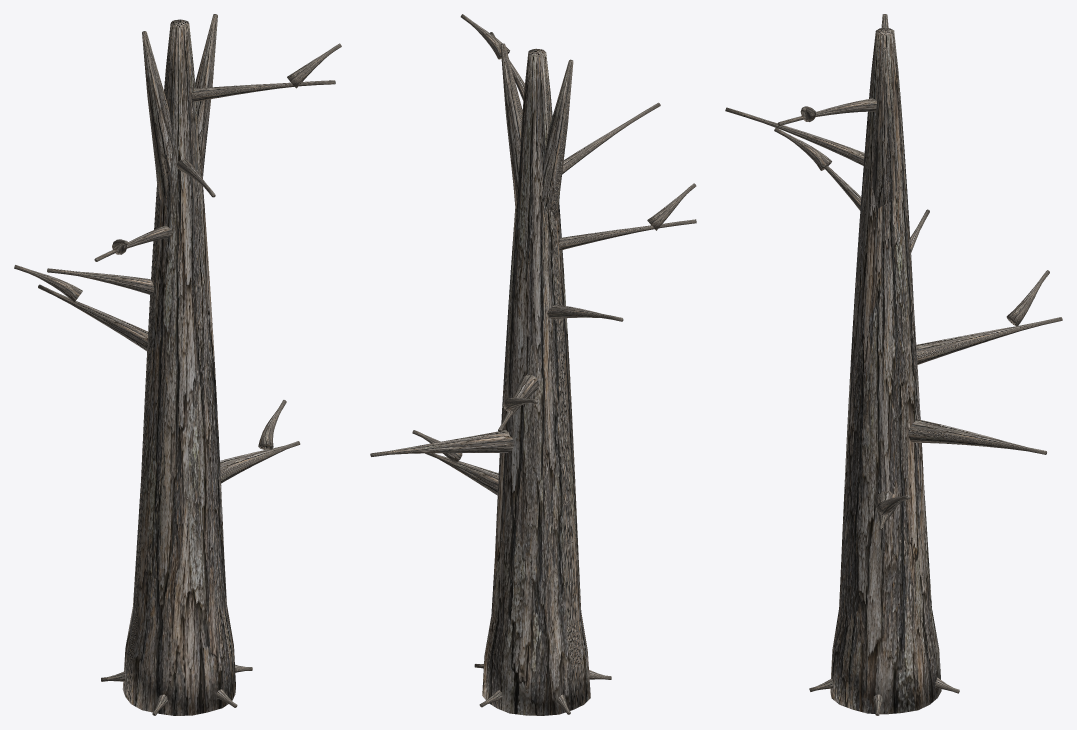
The model's file is upright-split-v01.glb.
The picture shows the model from 3 angles, left to right: view 1: azimuth 30°, elevation 25°; view 2: azimuth 150°, elevation 25°; view 3: azimuth 270°, elevation 25°; orthographic projection. The views are drawn at different scales.
Parts seen in each view (by area): view 1: tronco vertical sem inclinação, líder reto bifurcado, líder reto bifurcado.001, galho firme ascendente.002, galho firme ascendente.006, galho firme ascendente, galho firme ascendente.003, ramo fino ascendente.001, galho firme ascendente.004, ramo fino ascendente.003; view 2: tronco vertical sem inclinação, líder reto bifurcado, galho firme ascendente.001, líder reto bifurcado.001, galho firme ascendente.004, galho firme ascendente, galho firme ascendente.005, galho firme ascendente.003, galho firme ascendente.002; view 3: tronco vertical sem inclinação, líder reto bifurcado.001, galho firme ascendente.001, galho firme ascendente.002, galho firme ascendente.005, galho firme ascendente.006, ramo fino ascendente.001, ramo fino ascendente.002.
Boxes of the visible parts, <box> form: tronco vertical sem inclinação: <box>122,19,235,715</box>; líder reto bifurcado: <box>142,31,172,199</box>; líder reto bifurcado.001: <box>195,14,217,178</box>; galho firme ascendente.002: <box>38,284,147,351</box>; galho firme ascendente.006: <box>191,80,335,101</box>; galho firme ascendente: <box>220,441,300,483</box>; galho firme ascendente.003: <box>47,268,153,294</box>; ramo fino ascendente.001: <box>14,265,82,302</box>; galho firme ascendente.004: <box>94,225,171,261</box>; ramo fino ascendente.003: <box>287,43,341,88</box>; tronco vertical sem inclinação: <box>482,48,590,715</box>; líder reto bifurcado: <box>542,59,573,220</box>; galho firme ascendente.001: <box>370,430,514,456</box>; líder reto bifurcado.001: <box>500,43,522,206</box>; galho firme ascendente.004: <box>559,219,696,250</box>; galho firme ascendente: <box>425,453,498,495</box>; galho firme ascendente.005: <box>562,102,660,174</box>; galho firme ascendente.003: <box>547,304,623,321</box>; galho firme ascendente.002: <box>498,374,538,432</box>; tronco vertical sem inclinação: <box>830,28,941,714</box>; líder reto bifurcado.001: <box>872,47,898,208</box>; galho firme ascendente.001: <box>908,419,1046,454</box>; galho firme ascendente.002: <box>916,317,1062,364</box>; galho firme ascendente.005: <box>725,107,864,165</box>; galho firme ascendente.006: <box>777,98,876,125</box>; ramo fino ascendente.001: <box>1006,270,1049,326</box>; ramo fino ascendente.002: <box>774,128,831,170</box>.
Bounding box in the file's own units: 1.66 × 4.3 × 1.99.
Materials: 1 (1 with a texture image).
